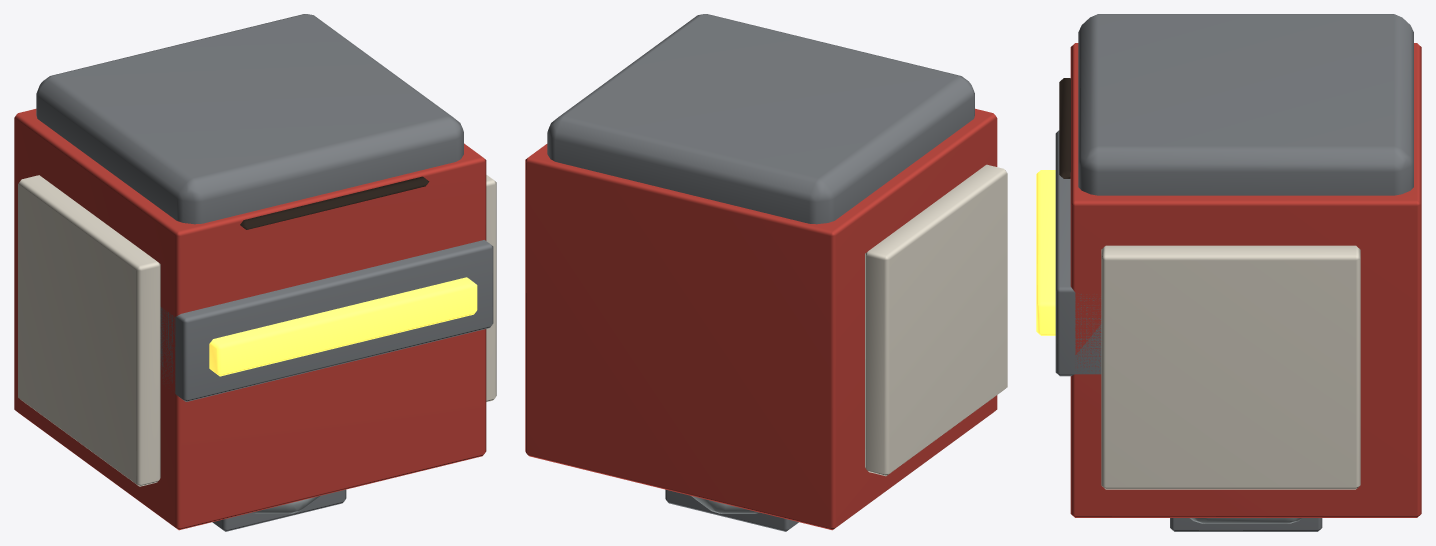
File: everykit_standard_cowl.glb
The picture shows the model from 3 angles, left to right: view 1: azimuth 30°, elevation 25°; view 2: azimuth 150°, elevation 25°; view 3: azimuth 270°, elevation 25°; orthographic projection. The views are drawn at different scales.
Visible parts, largest first — view 1: everykit_standard_cowl; view 2: everykit_standard_cowl; view 3: everykit_standard_cowl.
Boxes of the visible parts, x1=… form: everykit_standard_cowl: x1=14, y1=14, x2=496, y2=531; everykit_standard_cowl: x1=525, y1=14, x2=1007, y2=531; everykit_standard_cowl: x1=1036, y1=14, x2=1421, y2=531.
Size of the model in its own units: 0.58 by 0.61 by 0.505.
Materials: 1 (1 with a texture image).
